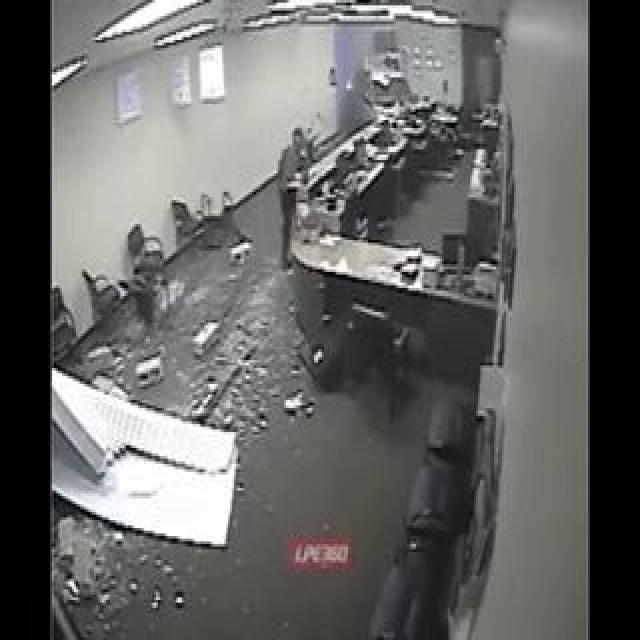thief: (270, 105, 342, 218)
